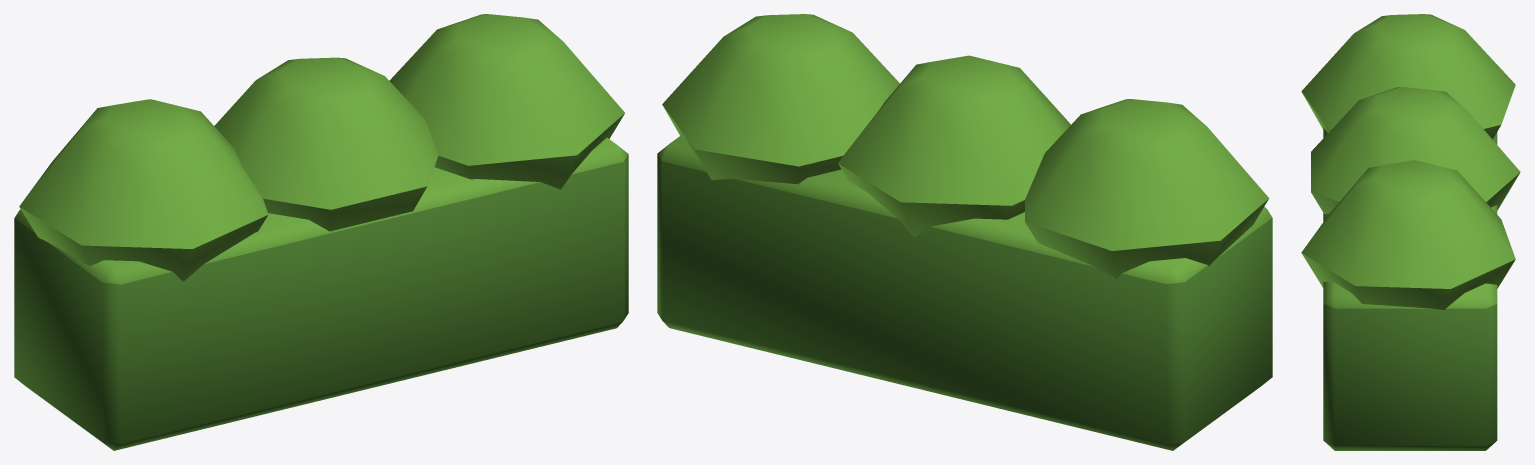
File: P_MedHedge.fbx
3 renders of one model, left to right at view 1: azimuth 30°, elevation 25°; view 2: azimuth 150°, elevation 25°; view 3: azimuth 270°, elevation 25°, orthographic. The views are drawn at different scales.
Visible parts, largest first — view 1: M_Hedge; view 2: M_Hedge; view 3: M_Hedge.
Boxes of the visible parts, box(x1,y1,x2,y2) form: M_Hedge: box(14, 14, 628, 450); M_Hedge: box(657, 14, 1272, 450); M_Hedge: box(1301, 14, 1520, 450).
Size of the model in its own units: 1.91 by 0.925 by 0.7557.
1 material, 1 textured.
